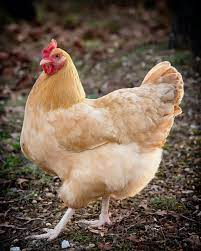buff: (26, 39, 133, 173)
